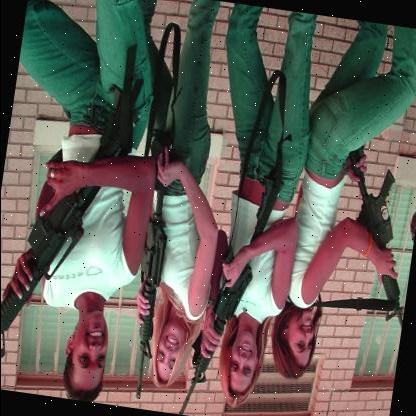rifle: (0, 80, 139, 398), (171, 129, 292, 416), (318, 140, 416, 353), (113, 130, 184, 402)
